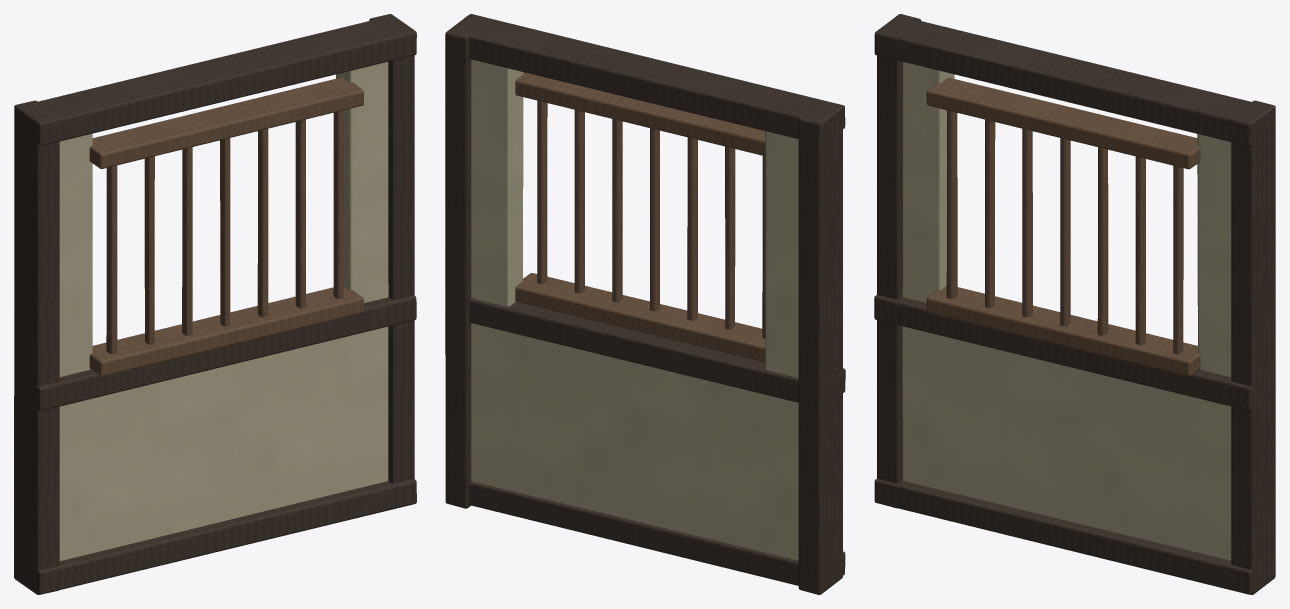
The model's file is AR_Wall_Window_2m.glb.
3 views of the same model, side by side, from view 1: azimuth 30°, elevation 25°; view 2: azimuth 150°, elevation 25°; view 3: azimuth 330°, elevation 25° (orthographic).
Visible parts, largest first — view 1: AR_Wall_Window_2m; view 2: AR_Wall_Window_2m; view 3: AR_Wall_Window_2m.
Boxes of the visible parts, left/top/right/bottom form: AR_Wall_Window_2m: left=14, top=14, right=416, bottom=594; AR_Wall_Window_2m: left=445, top=14, right=845, bottom=594; AR_Wall_Window_2m: left=874, top=14, right=1275, bottom=594.
Size of the model in its own units: 2 by 2.4 by 0.2819.
3 materials, 3 textured.
